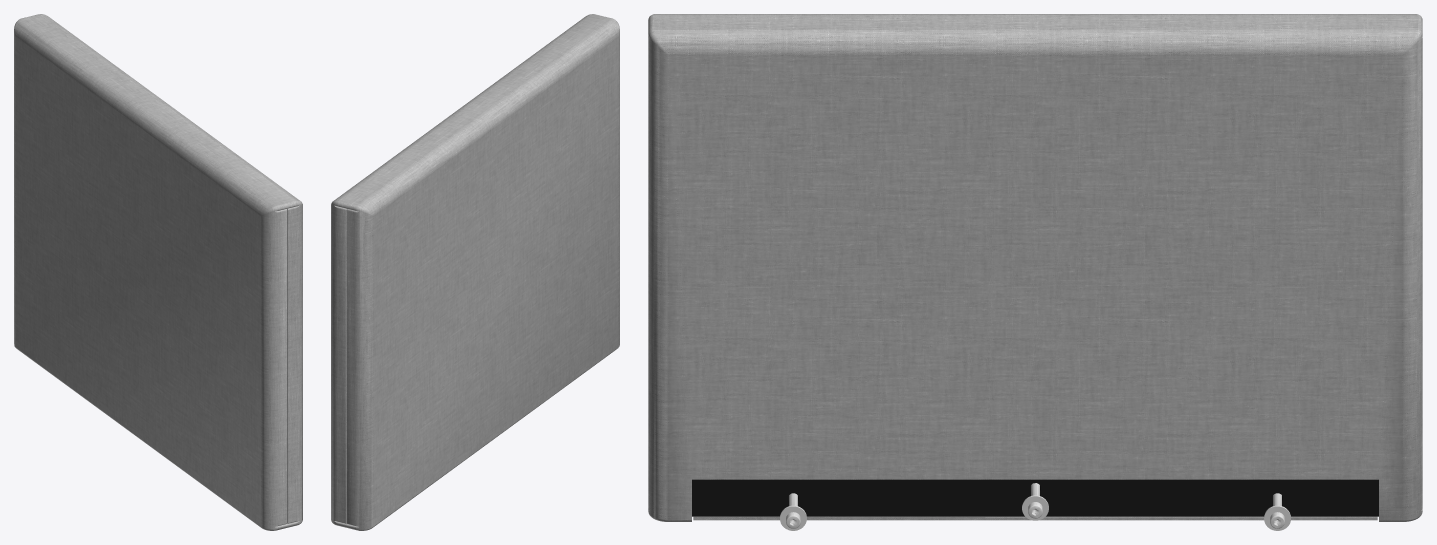
The model's file is Karfa.glb.
The picture shows the model from 3 angles, left to right: view 1: azimuth 30°, elevation 25°; view 2: azimuth 150°, elevation 25°; view 3: azimuth 270°, elevation 25°; orthographic projection. The views are drawn at different scales.
Visible parts, largest first — view 1: Body1.750; view 2: Body1.750; view 3: Body1.750, Body2.038, Body1.763.
Boxes of the visible parts, box(x1,y1,x2,y2) form: Body1.750: box(14, 14, 302, 530); Body1.750: box(331, 14, 619, 530); Body1.750: box(648, 14, 1422, 521); Body2.038: box(692, 479, 1378, 516); Body1.763: box(780, 483, 1290, 530).
Size of the model in its own units: 0.106 by 0.477 by 0.688.
Materials: 4 (1 with a texture image).
